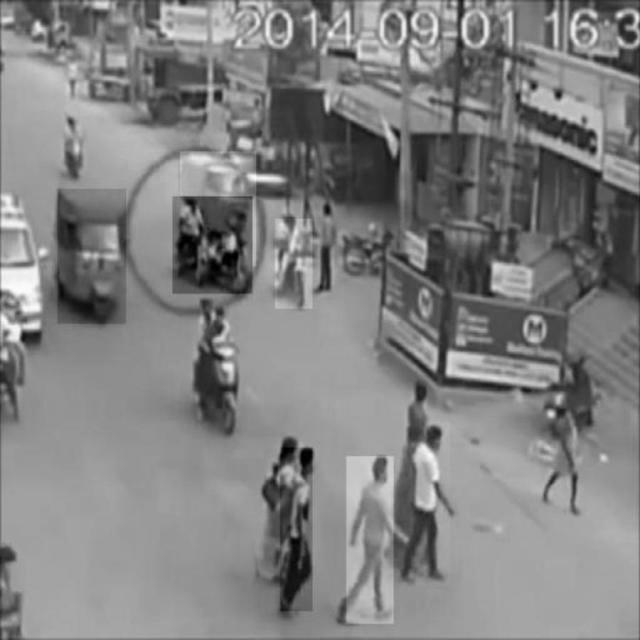accident: (173, 197, 253, 295)
person: (347, 456, 394, 623), (410, 421, 451, 586), (281, 447, 313, 611)
vehicle: (57, 189, 125, 323), (181, 152, 257, 266), (196, 296, 242, 443), (275, 219, 312, 309)
